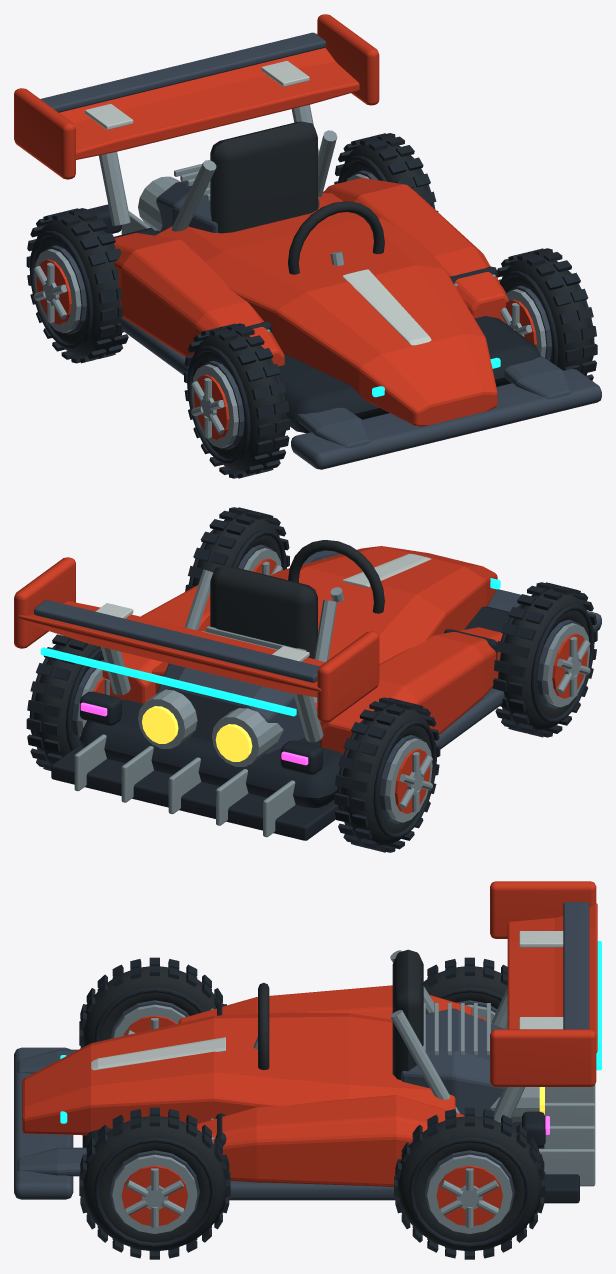
Rendered from kart-ember.glb.
The picture shows the model from 3 angles, top to bottom: view 1: azimuth 30°, elevation 25°; view 2: azimuth 150°, elevation 25°; view 3: azimuth 270°, elevation 25°; orthographic projection.
Visible parts, largest first — view 1: Kart_Surface, WheelFL_Surface, WheelRL_Surface, WheelFR_Surface, WheelRR_Surface; view 2: Kart_Surface, WheelRL_Surface, WheelFL_Surface, WheelRR_Surface, WheelFR_Surface; view 3: Kart_Surface, WheelFR_Surface, WheelRR_Surface, WheelFL_Surface, WheelRL_Surface.
Boxes of the visible parts, x1,y1,x2,y2 form: Kart_Surface: [14, 14, 601, 469]; WheelFL_Surface: [184, 323, 289, 478]; WheelRL_Surface: [26, 208, 128, 363]; WheelFR_Surface: [497, 248, 597, 380]; WheelRR_Surface: [334, 133, 438, 211]; Kart_Surface: [14, 540, 601, 840]; WheelRL_Surface: [334, 697, 440, 852]; WheelFL_Surface: [492, 582, 597, 737]; WheelRR_Surface: [26, 634, 109, 770]; WheelFR_Surface: [185, 507, 289, 591]; Kart_Surface: [14, 881, 601, 1203]; WheelFR_Surface: [79, 1107, 230, 1259]; WheelRR_Surface: [394, 1107, 545, 1259]; WheelFL_Surface: [79, 957, 226, 1048]; WheelRL_Surface: [423, 957, 507, 1023].
Size of the model in its own units: 1.81 by 1.03 by 2.48.
